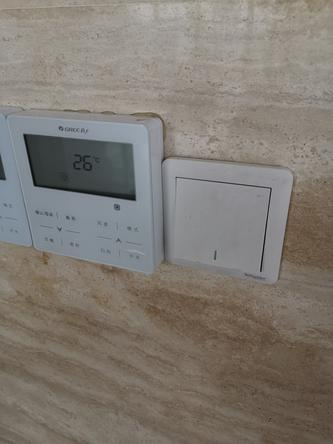switch: (169, 170, 272, 273)
